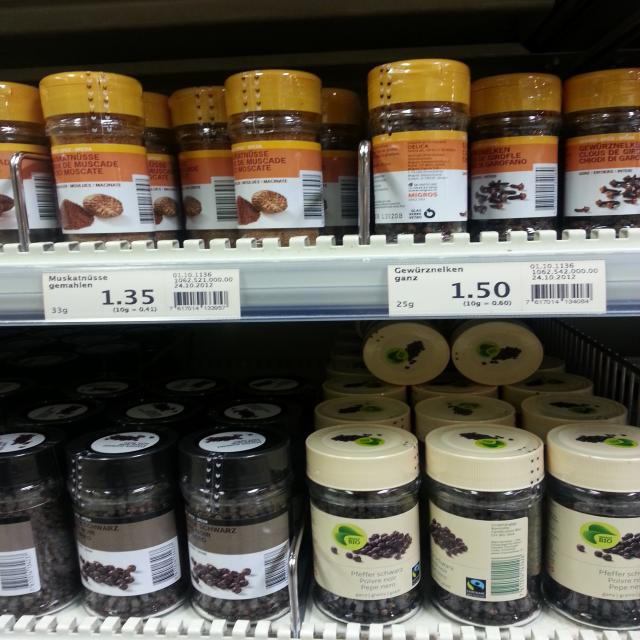Spices: (298, 424, 429, 624), (426, 424, 550, 627), (69, 430, 194, 620), (191, 428, 299, 622), (360, 56, 474, 238), (549, 416, 640, 635), (37, 71, 147, 241), (229, 65, 330, 244), (466, 72, 560, 234), (0, 432, 82, 616), (566, 61, 640, 241), (168, 90, 244, 240)
